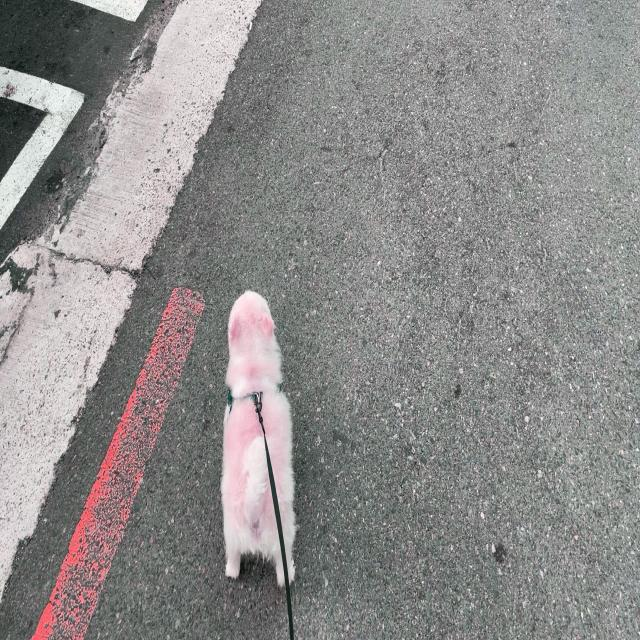Dog: (222, 290, 296, 586)
